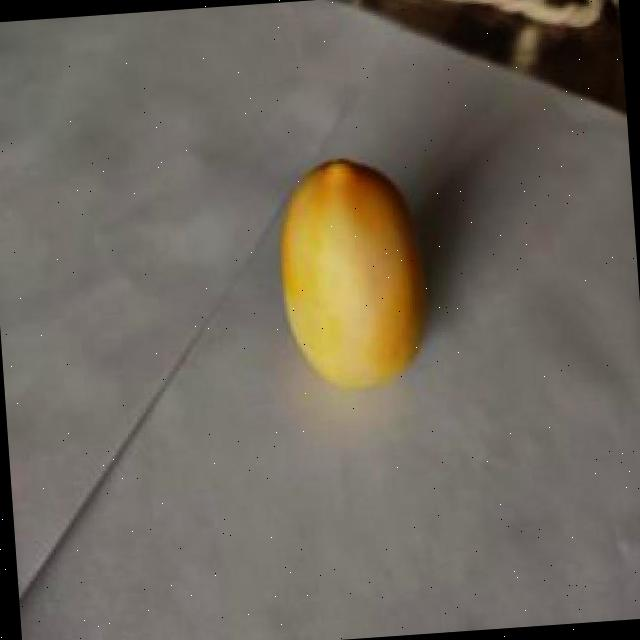tomato: (272, 154, 431, 396)
